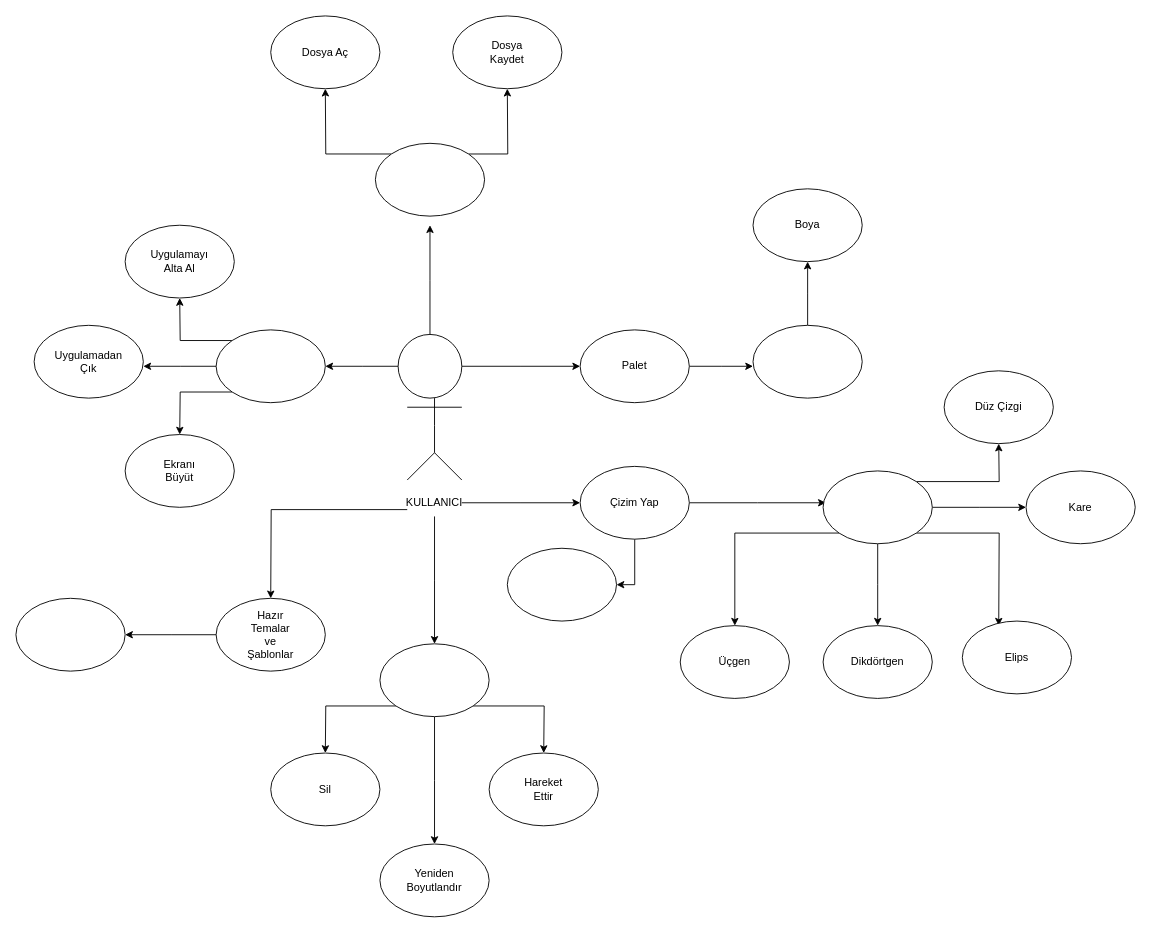
The diagram is 1151 pixels wide and 933 high, and some of its shapes have lost their labels. The box of each missing label's shape, as (x1, y1, x2, y2) in pixels:
Dosya İşlemleri: (374, 142, 485, 216)
Hazır Şekiller: (822, 470, 932, 544)
Renk Seç: (752, 324, 862, 398)
Serbest Çizim Yap: (506, 547, 617, 621)
Uygulama Penceresi: (215, 329, 325, 403)
Çizim Üzerinde İşlemler: (379, 643, 489, 717)
Şablon Seç: (15, 597, 125, 671)
